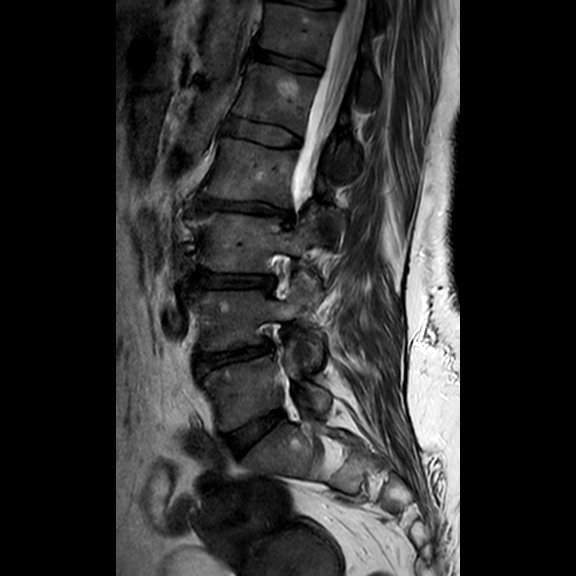RFS0: (252, 246, 299, 307)
